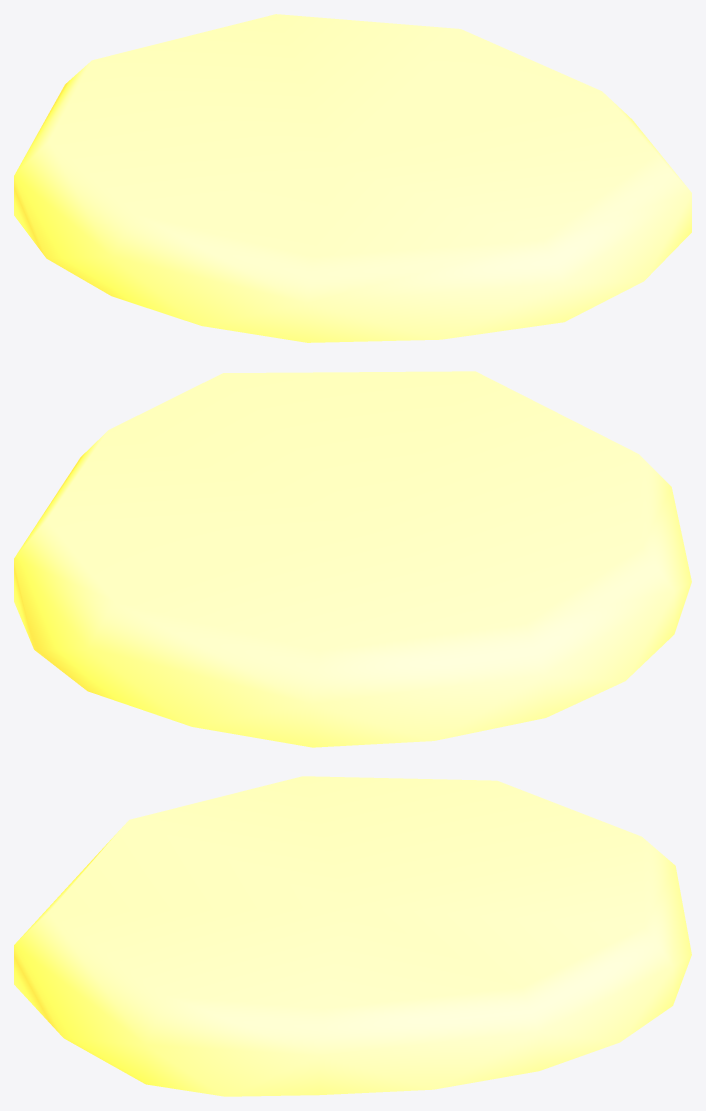
Rendered from Candle_red_4.fbx.
The picture shows the model from 3 angles, top to bottom: view 1: azimuth 30°, elevation 25°; view 2: azimuth 150°, elevation 25°; view 3: azimuth 270°, elevation 25°; orthographic projection. The views are drawn at different scales.
Visible parts, largest first — view 1: Candle_red_4_LOD0; view 2: Candle_red_4_LOD0; view 3: Candle_red_4_LOD0.
Part boxes in pixels (<box>): Candle_red_4_LOD0: <box>14,14,691,342</box>; Candle_red_4_LOD0: <box>14,371,691,747</box>; Candle_red_4_LOD0: <box>14,776,691,1096</box>.
Size of what is drawn, in the model's own units: 0.0774 by 0.0104 by 0.0839.
